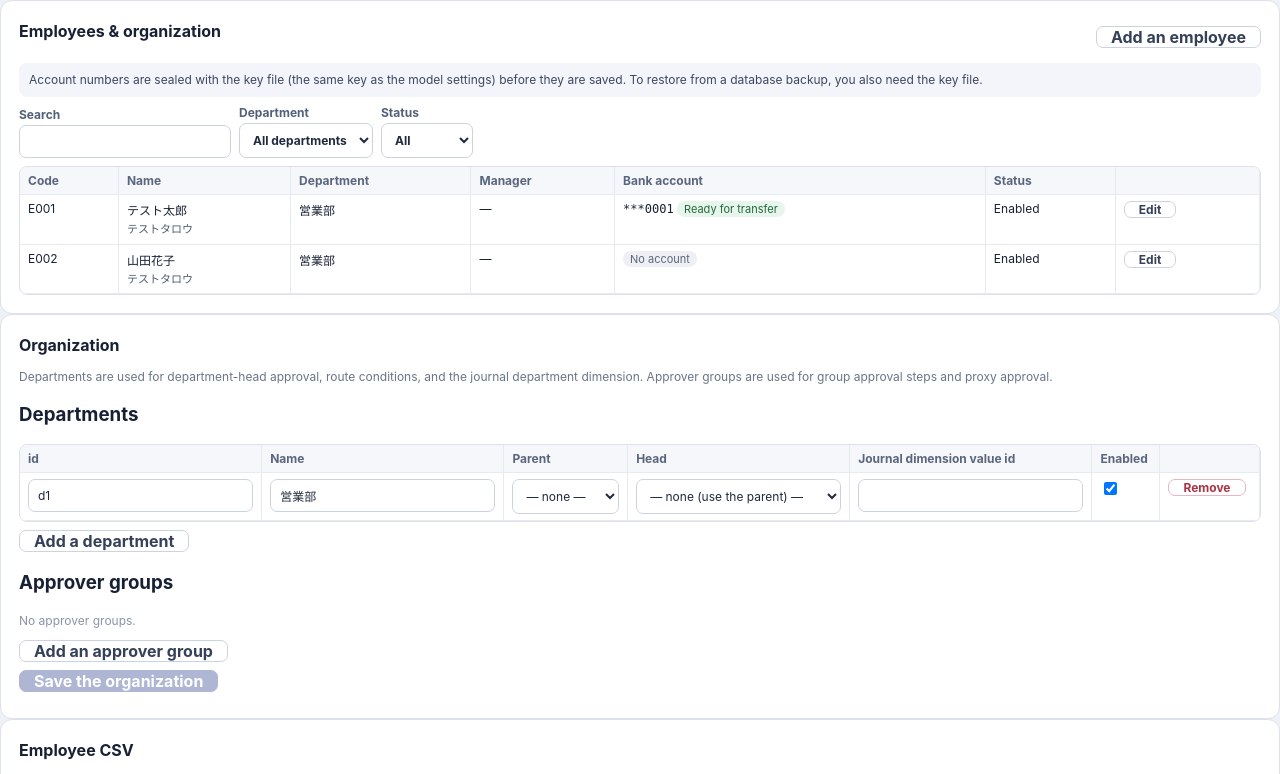
Scenario: EmployeesLedger › 異常: 社員番号の一意違反は相手の従業員を開くボタンを出す
Click the button with aria-label "Edit テスト太郎" at (1150, 210), box [1124,201,1176,218]
(page scrolled)
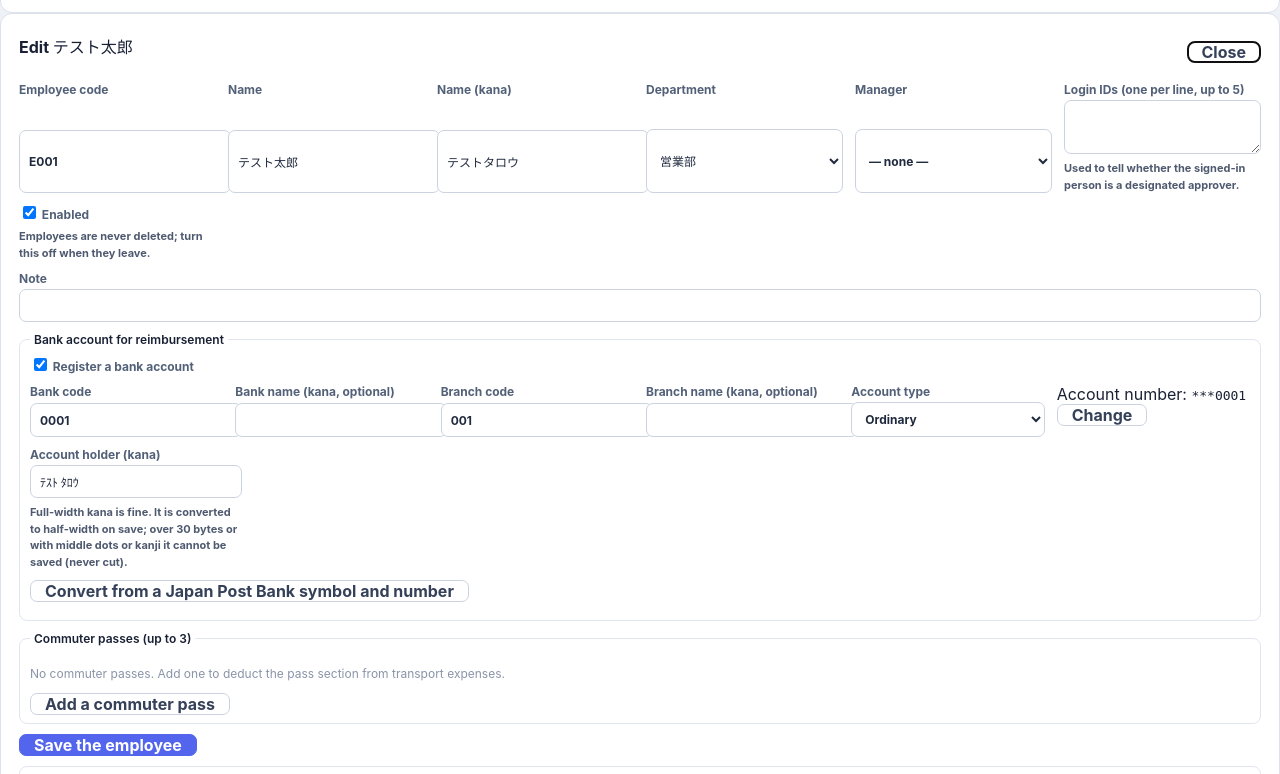
Click the button "Save the employee" at (108, 745), box [19,734,197,756]
(page scrolled)
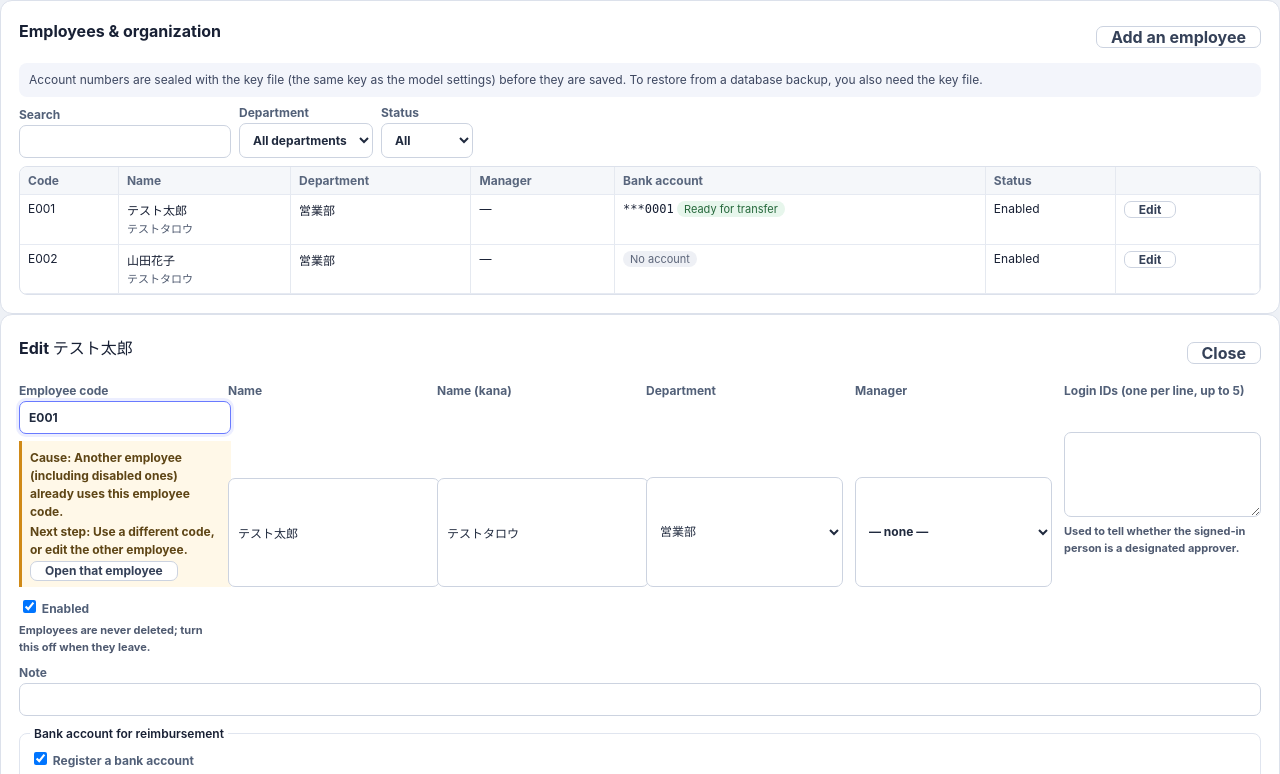
Expected: the text "already uses this employee code" is shown, [30,450,190,519]
Click the button "Open that employee" at (104, 571), box [30,561,178,581]
(page scrolled)
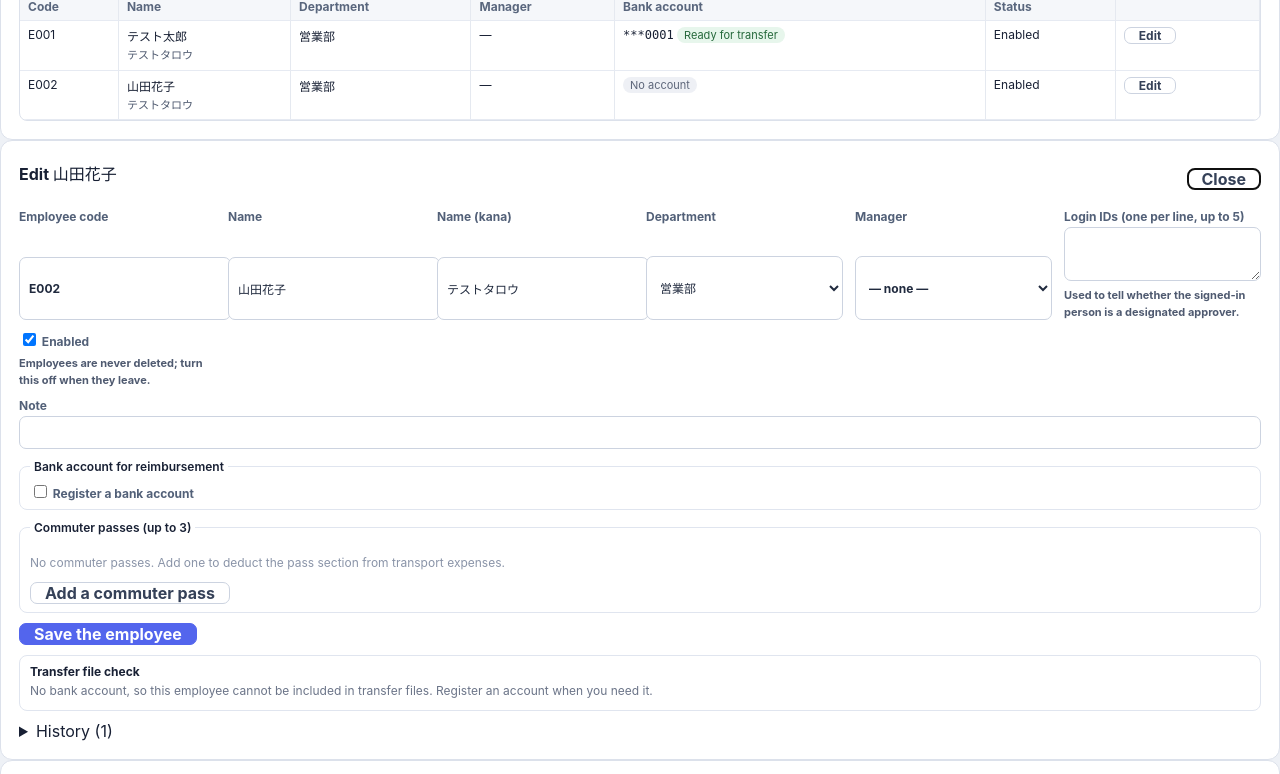
Expected: the element "Edit 山田花子" is shown
